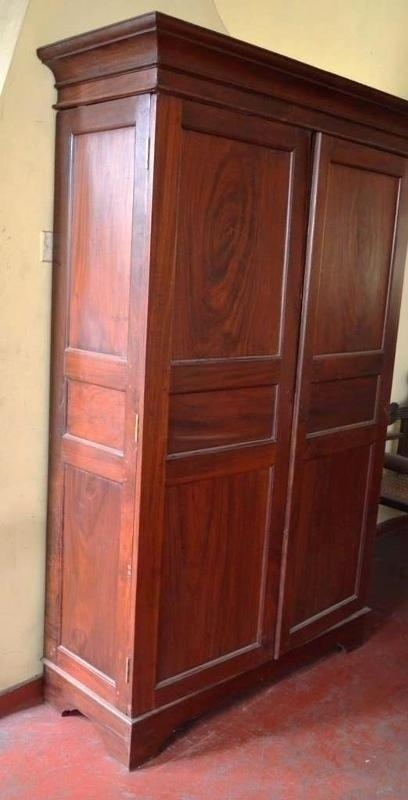Armario: (29, 16, 386, 765)
